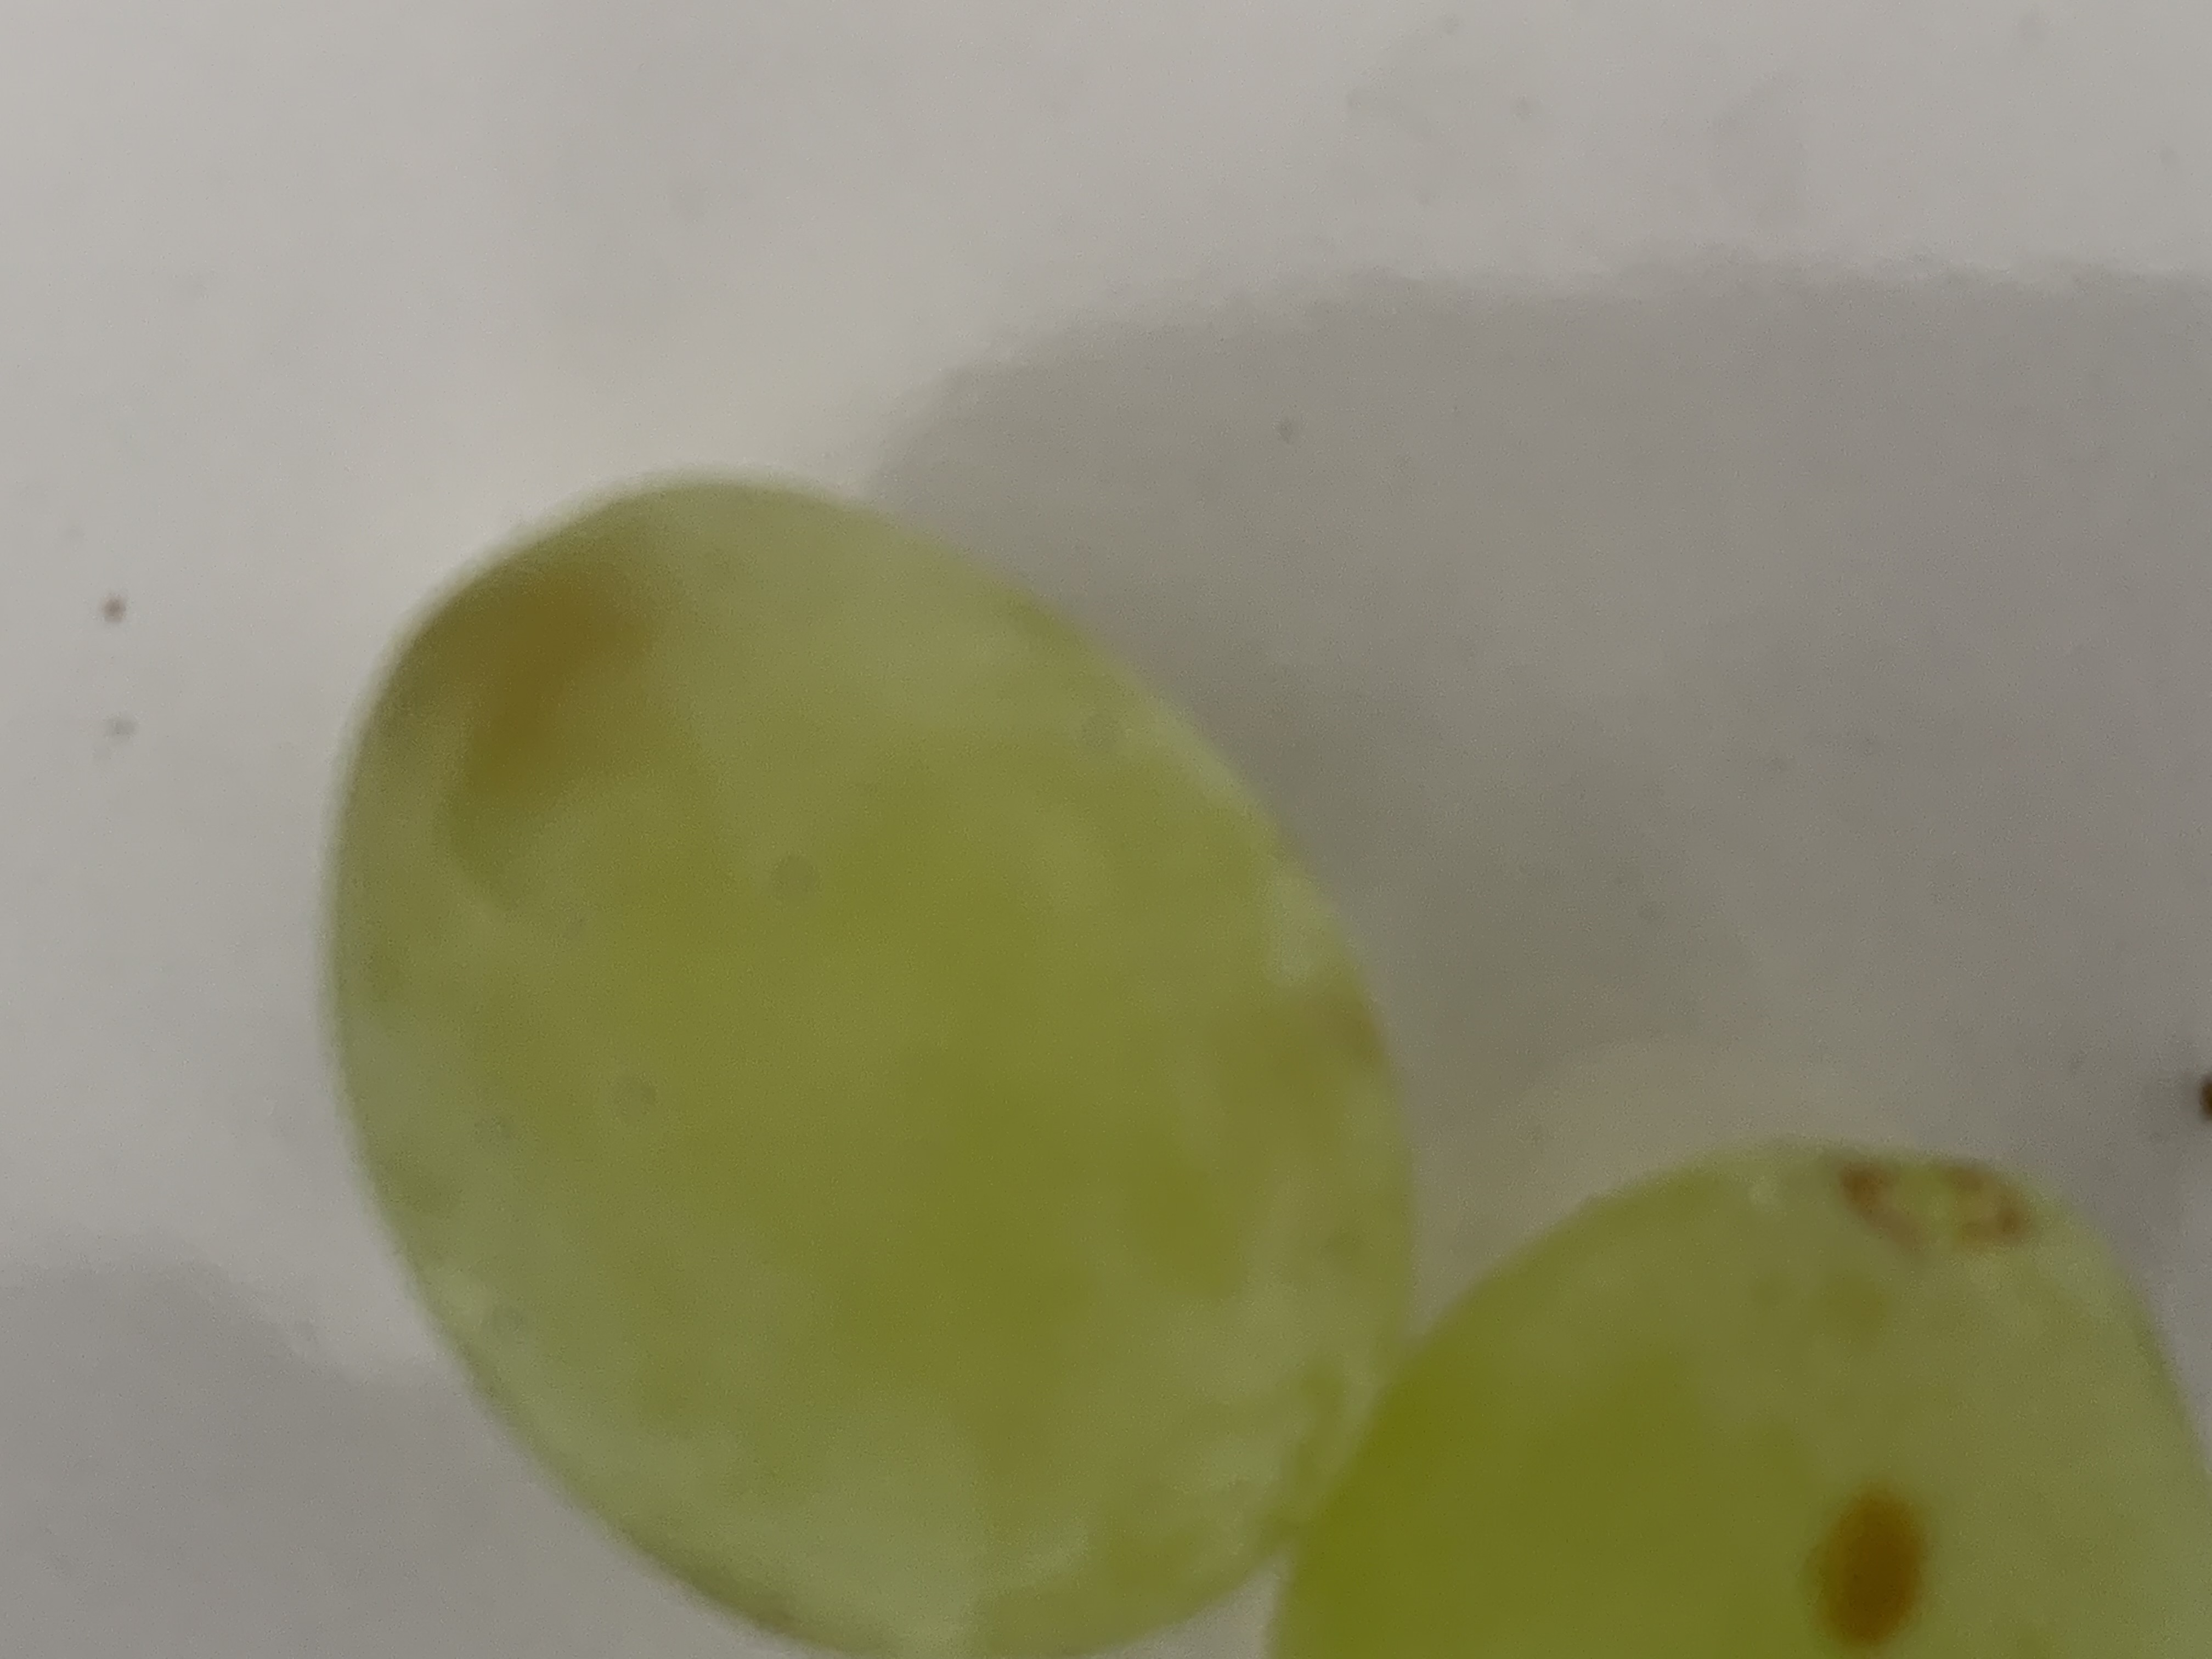grapes: (327, 495, 1390, 1610), (1305, 1124, 2203, 1659)
